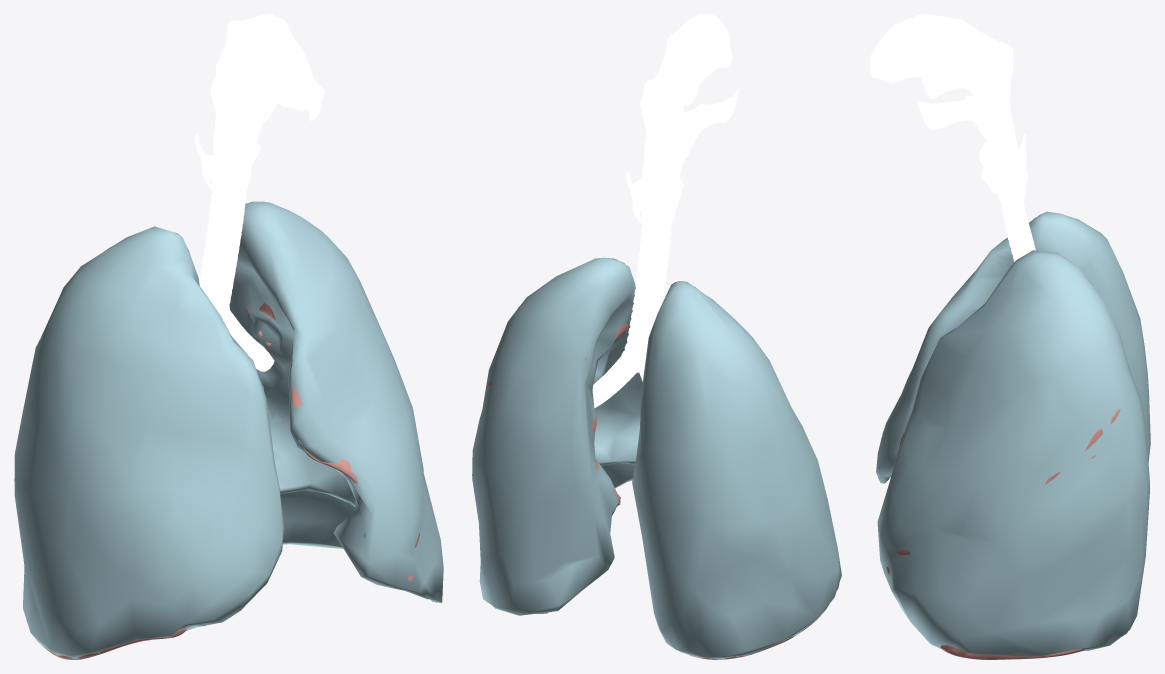
File: respiratory.glb
3 views of the same model, side by side, from view 1: azimuth 30°, elevation 25°; view 2: azimuth 150°, elevation 25°; view 3: azimuth 270°, elevation 25° (orthographic). The views are drawn at different scales.
Parts seen in each view (by area): view 1: Pleura.001, Mucosa of nasal cavity.001, Trachea.001, Oropharynx.001, Thyroid cartilage.001, Laryngopharynx.001, Nasopharynx.001, Left main bronchus.001, Superior lobe of left lung.001; view 2: Pleura.001, Oropharynx.001, Trachea.001, Nasopharynx.001, Mucosa of nasal cavity.001, Laryngopharynx.001, Left main bronchus.001, Thyroid cartilage.001; view 3: Pleura.001, Mucosa of nasal cavity.001, Oropharynx.001, Nasopharynx.001, Thyroid cartilage.001, Trachea.001, Laryngopharynx.001, Inferior lobe of left lung.001.
Boxes of the visible parts, bbox=[...] form: Pleura.001: bbox=[14, 201, 443, 659]; Mucosa of nasal cavity.001: bbox=[238, 14, 317, 111]; Trachea.001: bbox=[199, 193, 245, 316]; Oropharynx.001: bbox=[210, 66, 324, 138]; Thyroid cartilage.001: bbox=[194, 133, 260, 191]; Laryngopharynx.001: bbox=[212, 112, 262, 199]; Nasopharynx.001: bbox=[215, 15, 261, 78]; Left main bronchus.001: bbox=[221, 310, 274, 371]; Superior lobe of left lung.001: bbox=[247, 302, 419, 547]; Pleura.001: bbox=[472, 257, 841, 659]; Oropharynx.001: bbox=[640, 78, 738, 161]; Trachea.001: bbox=[621, 225, 671, 372]; Nasopharynx.001: bbox=[645, 36, 697, 107]; Mucosa of nasal cavity.001: bbox=[670, 14, 732, 90]; Laryngopharynx.001: bbox=[641, 154, 685, 230]; Left main bronchus.001: bbox=[592, 345, 637, 408]; Thyroid cartilage.001: bbox=[626, 172, 683, 227]; Pleura.001: bbox=[876, 211, 1150, 656]; Mucosa of nasal cavity.001: bbox=[870, 14, 963, 84]; Oropharynx.001: bbox=[917, 77, 1014, 142]; Nasopharynx.001: bbox=[961, 19, 1013, 88]; Thyroid cartilage.001: bbox=[981, 134, 1026, 202]; Trachea.001: bbox=[1001, 202, 1035, 261]; Laryngopharynx.001: bbox=[979, 132, 1027, 205]; Inferior lobe of left lung.001: bbox=[886, 455, 1096, 659].
Size of the model in its own units: 0.2638 by 0.4306 by 0.1929.
